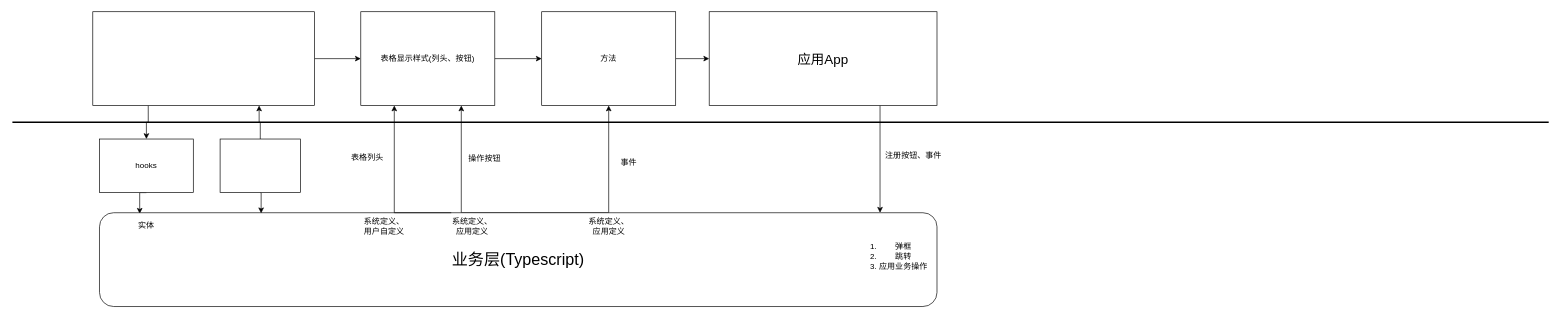
This 1560x318 diagram has some shape labels left out. The centre of each missing label's shape, as x and y in pixels:
实体API CUD: the point at 259,165
数据UI(表格、卡片组): the point at 203,58
